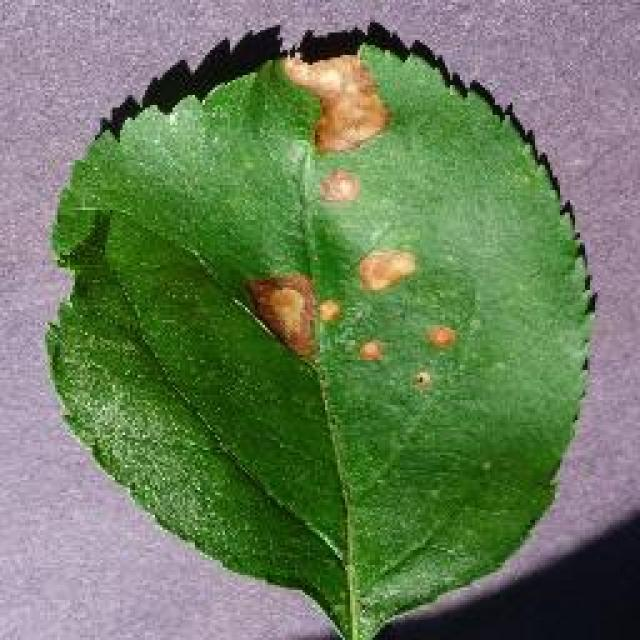apple black rot: (42, 18, 598, 638)
